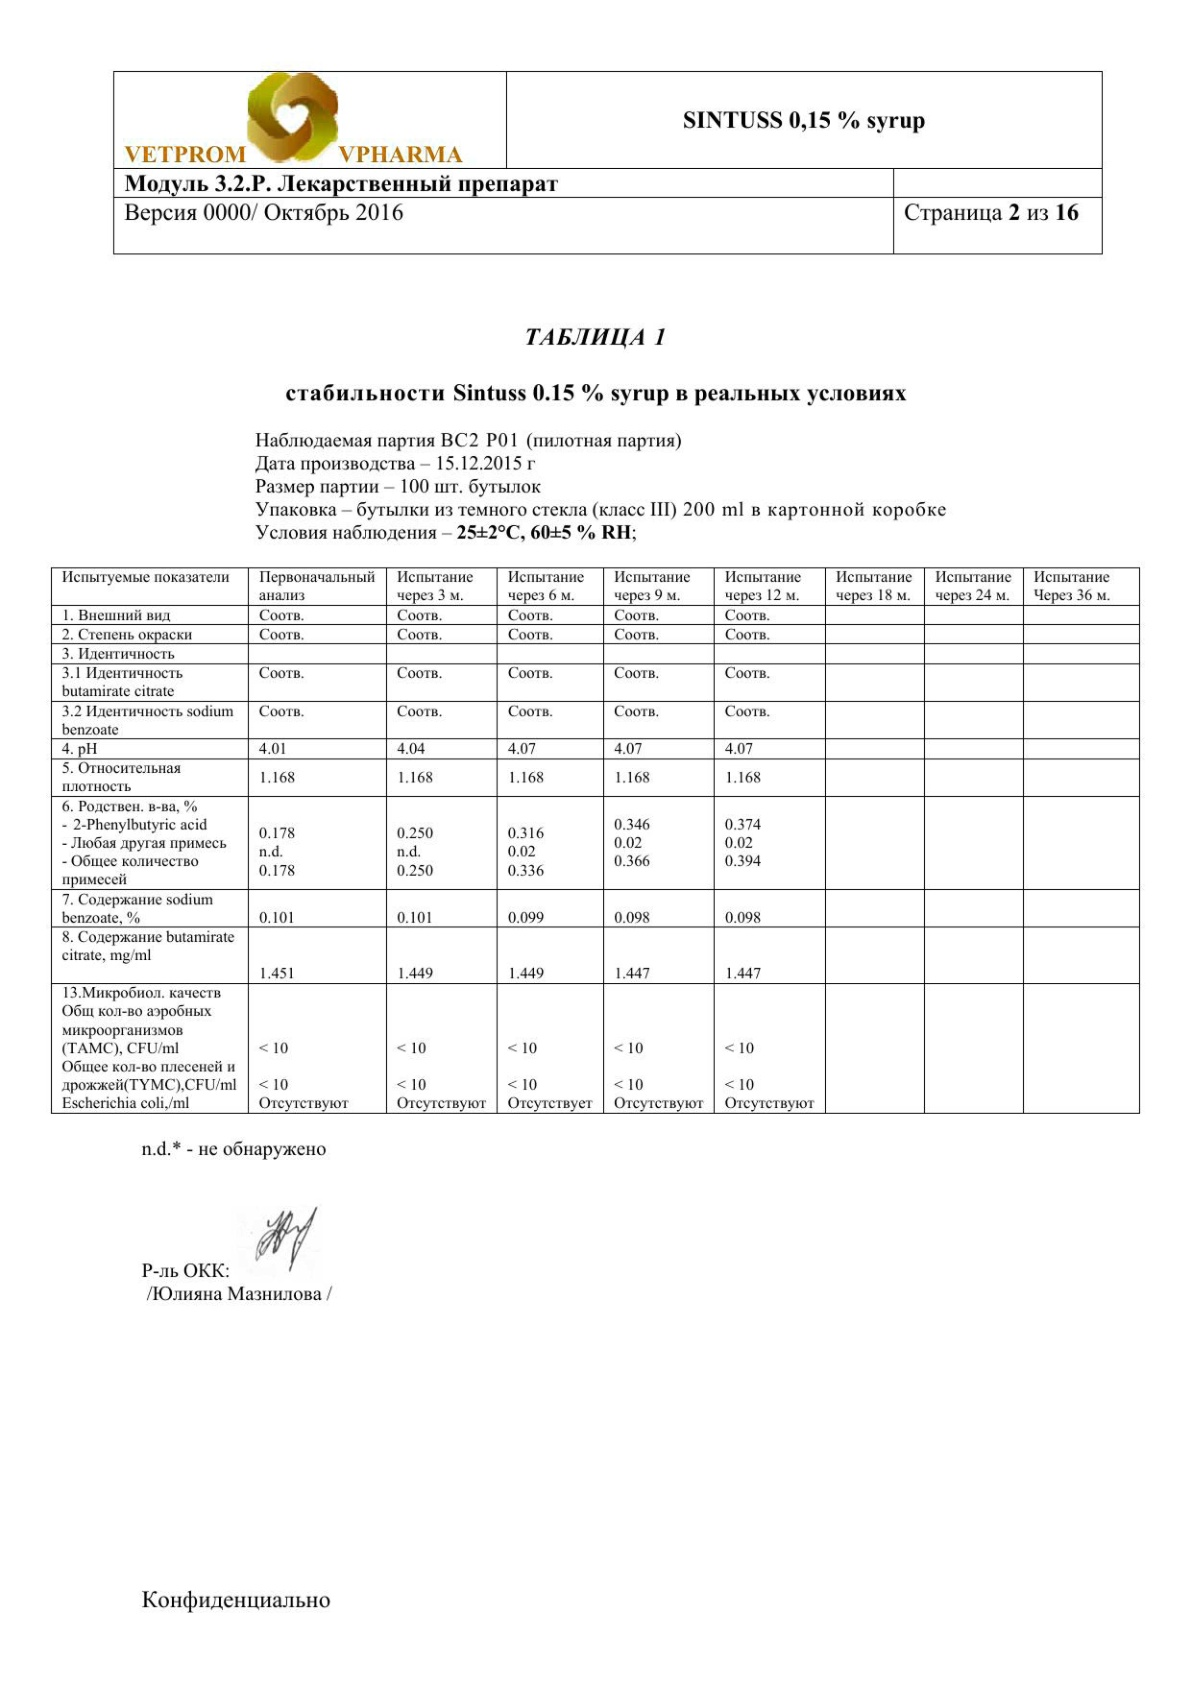full_lined: (50, 566, 1140, 1113)
merged_cells: (114, 70, 1104, 255)
